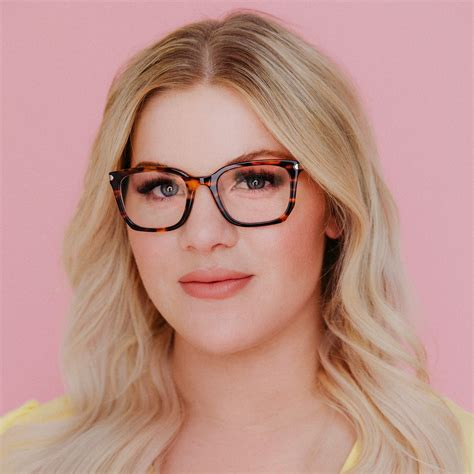sem_capacete: (92, 8, 364, 374)
